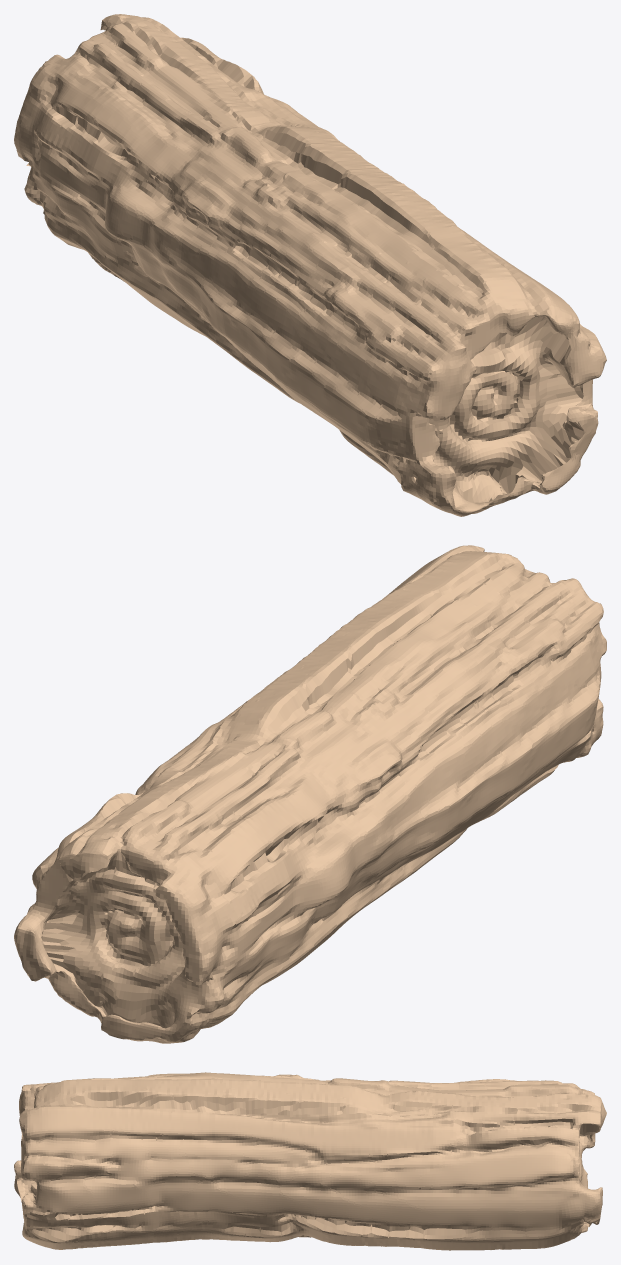
Rendered from CharltonLog.glb.
The picture shows the model from 3 angles, top to bottom: view 1: azimuth 30°, elevation 25°; view 2: azimuth 150°, elevation 25°; view 3: azimuth 270°, elevation 25°; orthographic projection. The views are drawn at different scales.
Parts seen in each view (by area): view 1: Cylinder; view 2: Cylinder; view 3: Cylinder.
Boxes of the visible parts, x1,y1,x2,y2 form: Cylinder: (14, 14, 606, 516); Cylinder: (14, 545, 606, 1043); Cylinder: (14, 1072, 606, 1250).
Bounding box in the file's own units: 2.47 × 2.47 × 8.14.
